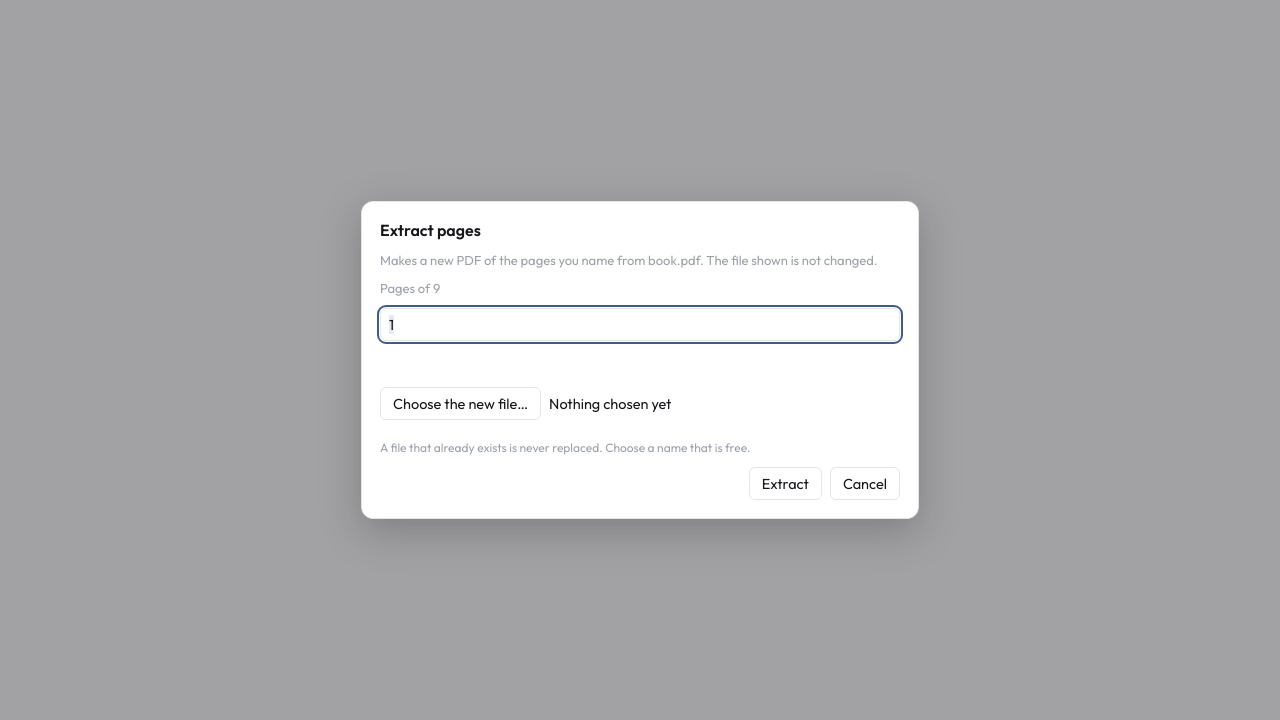
Test case: a_file_that_exists_is_refused_by_the_engine_and_the_dialog_says_nothing_was_written
Click the button "Choose the new file…": (461, 404) [380,387,541,420]
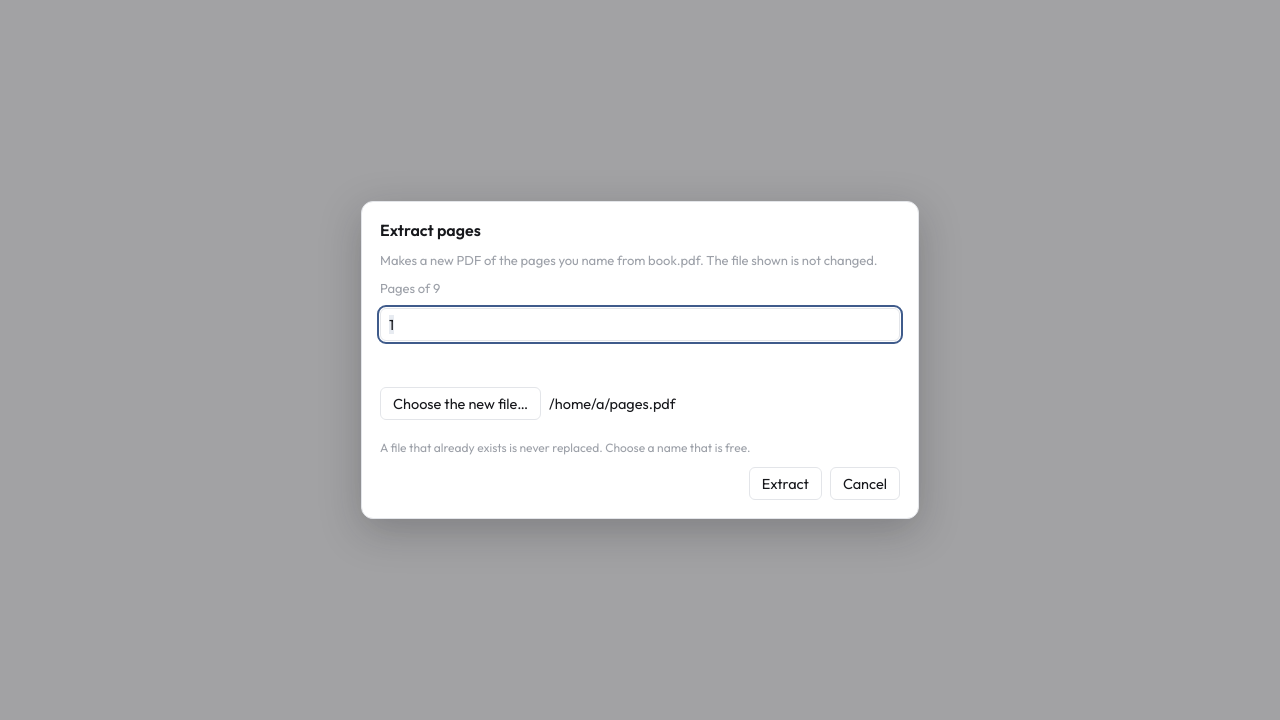
Check: the text with test id "pdf-job-target" no longer shows "Nothing", box [549,394,676,413]
Click the button "Extract": (785, 484) [749,467,822,500]
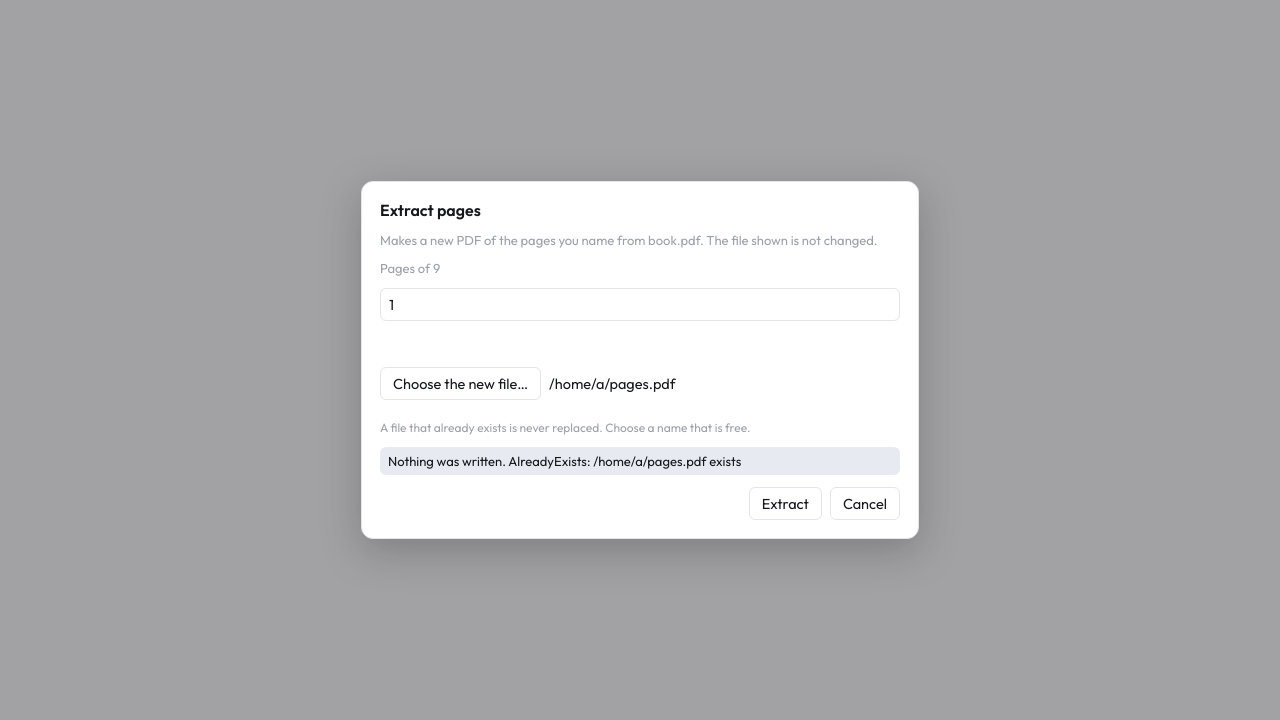
Check: the button "Extract" is enabled, box [749,487,822,520]
Check: the message with test id "pdf-job-failed" shows "Nothing was written.", box [388,453,741,469]
Check: the message with test id "pdf-job-failed" shows "AlreadyExists", box [388,453,741,469]
